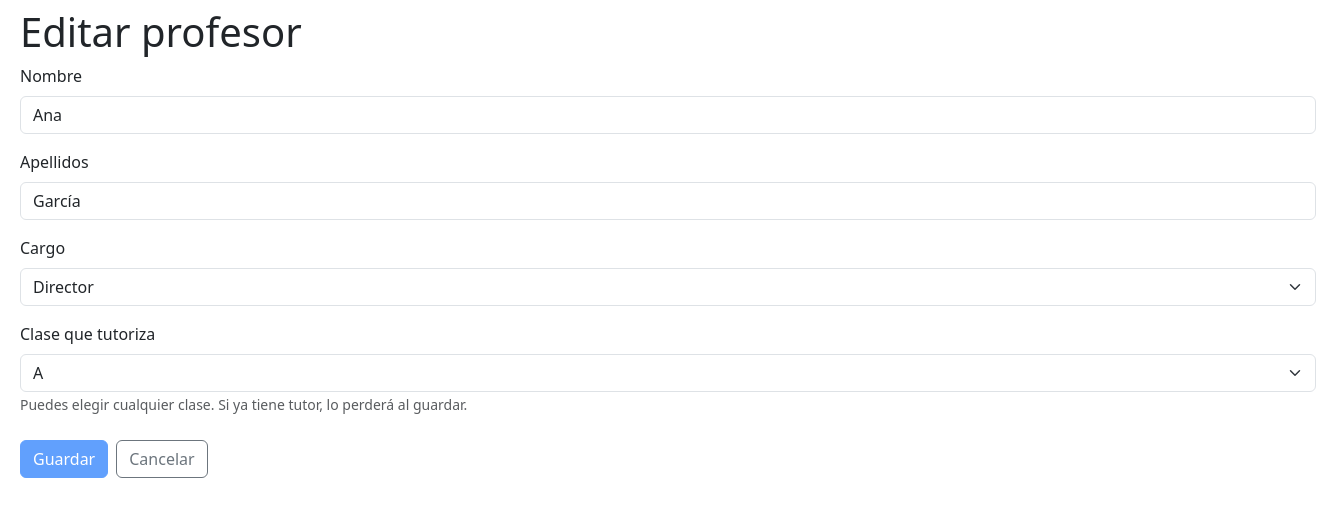
EditProfessorPage › marks the fields of a 400 and keeps what was typed
The image size is (1337, 520).
Type "x" into the field labelled "Nombre" at (668, 115), box x1=20 y1=96 x2=1316 y2=134
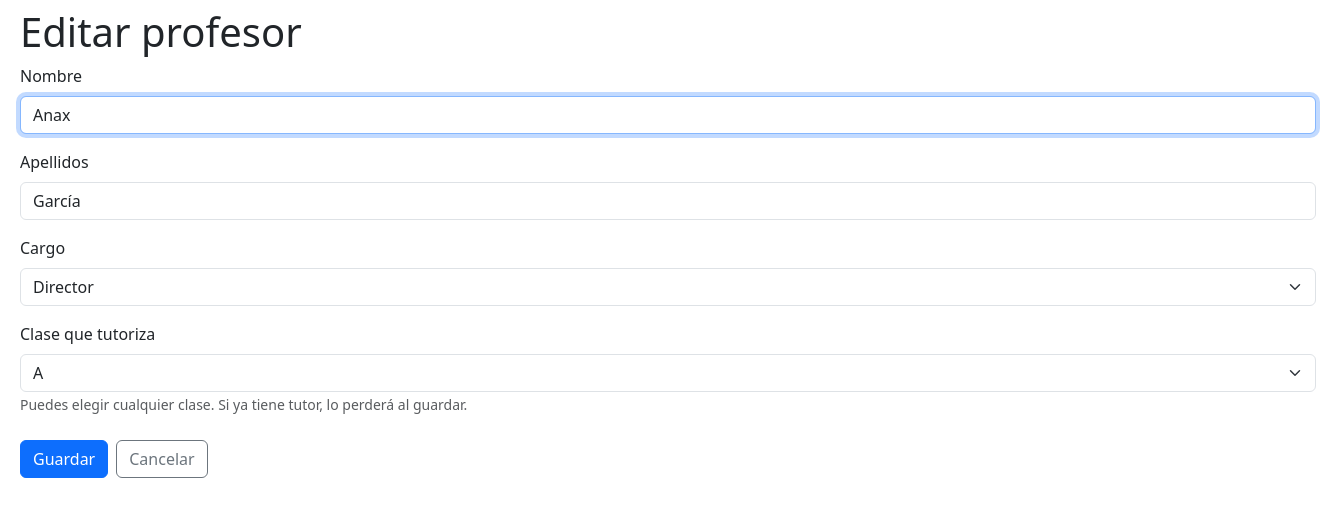
Expected: the dropdown labelled "Clase que tutoriza" is enabled, x1=20 y1=354 x2=1316 y2=392
Click the button "Guardar" at (64, 459), box x1=20 y1=440 x2=108 y2=478
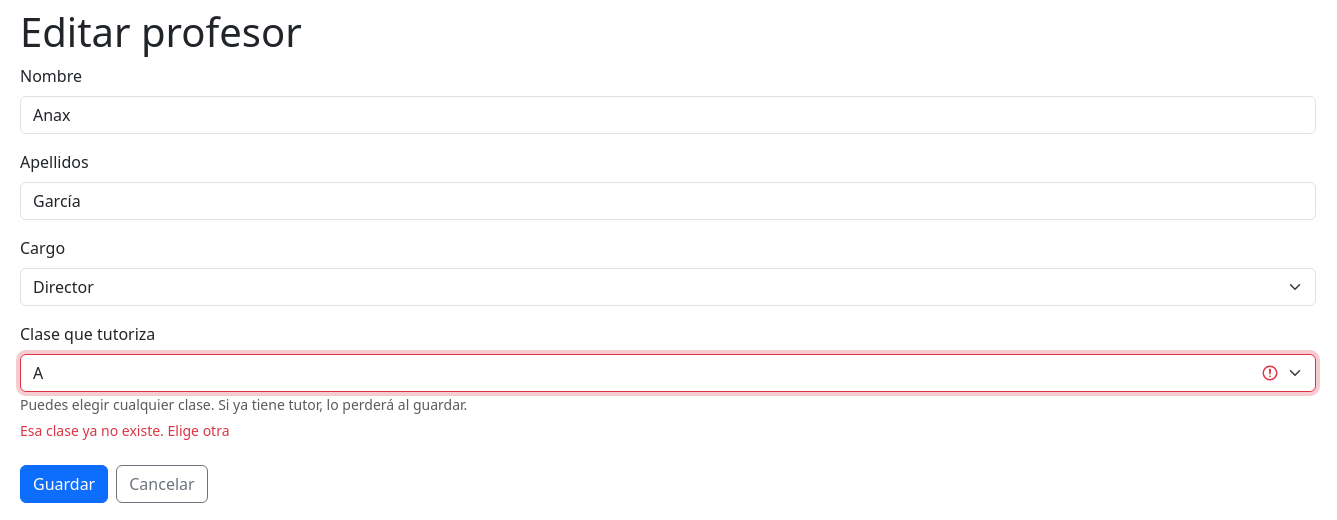
Expected: the field labelled "Nombre" holds "Anax", x1=20 y1=96 x2=1316 y2=134
Expected: the text "Esa clase ya no existe. Elige otra" is shown, x1=20 y1=421 x2=230 y2=440
